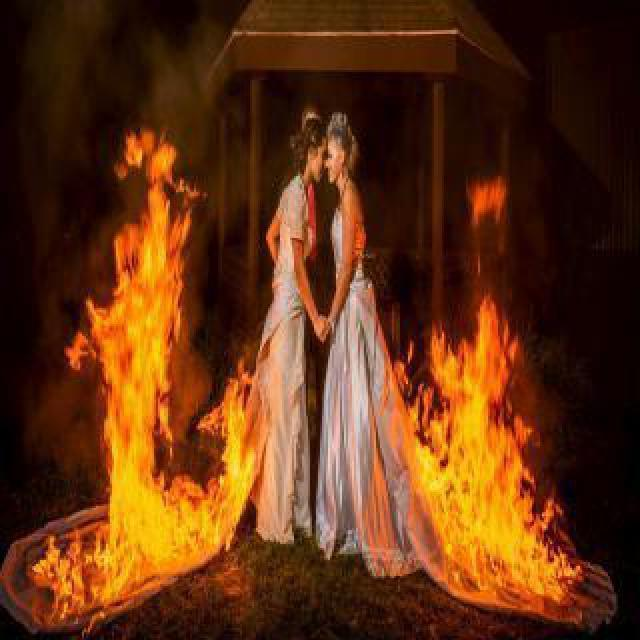Fire: (66, 116, 196, 498), (426, 458, 592, 632), (392, 296, 538, 458), (30, 494, 228, 592), (196, 344, 260, 494), (464, 154, 510, 296)
